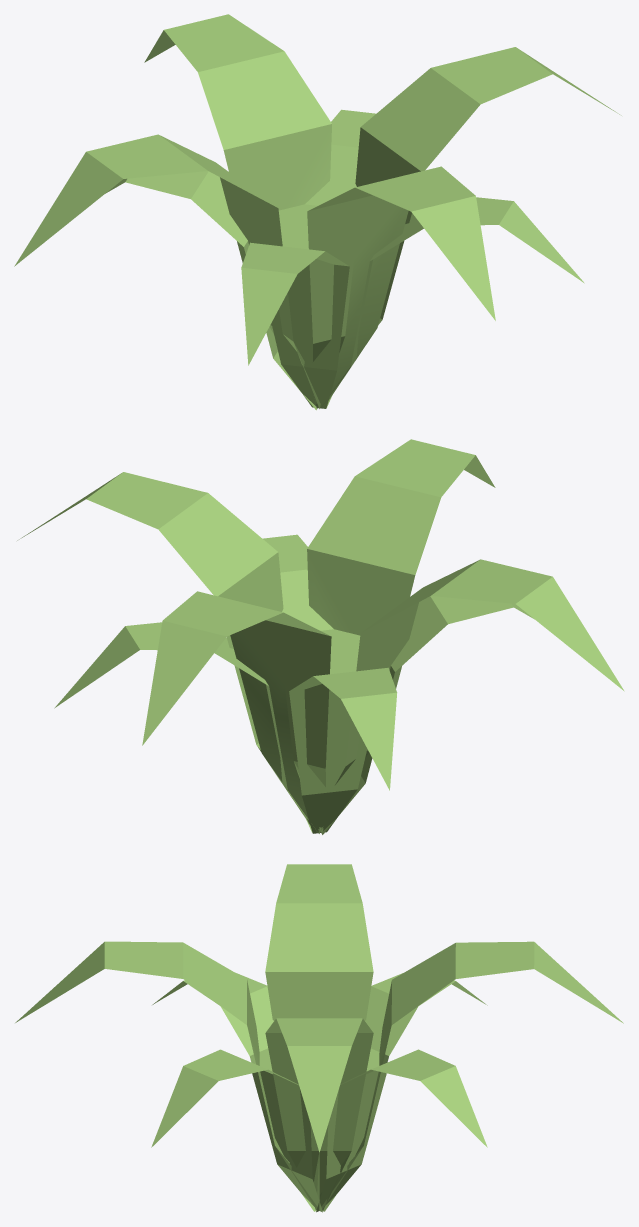
Rendered from Bush_Fern_01.fbx.
The picture shows the model from 3 angles, top to bottom: view 1: azimuth 30°, elevation 25°; view 2: azimuth 150°, elevation 25°; view 3: azimuth 270°, elevation 25°; orthographic projection. The views are drawn at different scales.
Visible parts, largest first — view 1: Model; view 2: Model; view 3: Model.
Part boxes in pixels (x1,y1,x2,y2): Model: (14, 14, 621, 410); Model: (17, 439, 624, 834); Model: (15, 864, 623, 1212).
Bounding box in the file's own units: 416 × 192 × 416.
